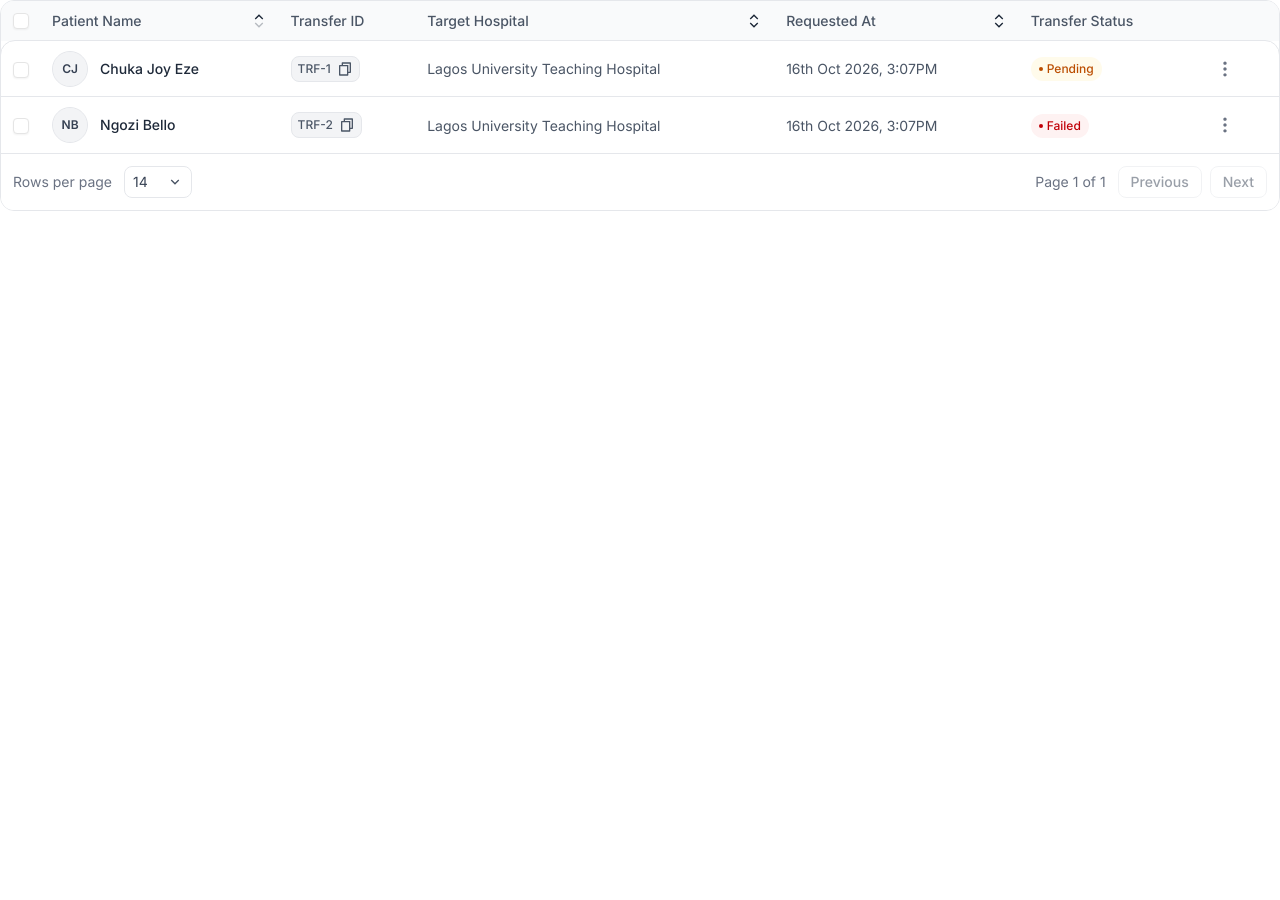
Scenario: Transfer recovery from the row menu › cancelling asks first, then withdraws the request and shows it cancelled
Click the 1st button named "Open transfer actions": coordinates (1225, 68) 1207,50 -> 1243,86
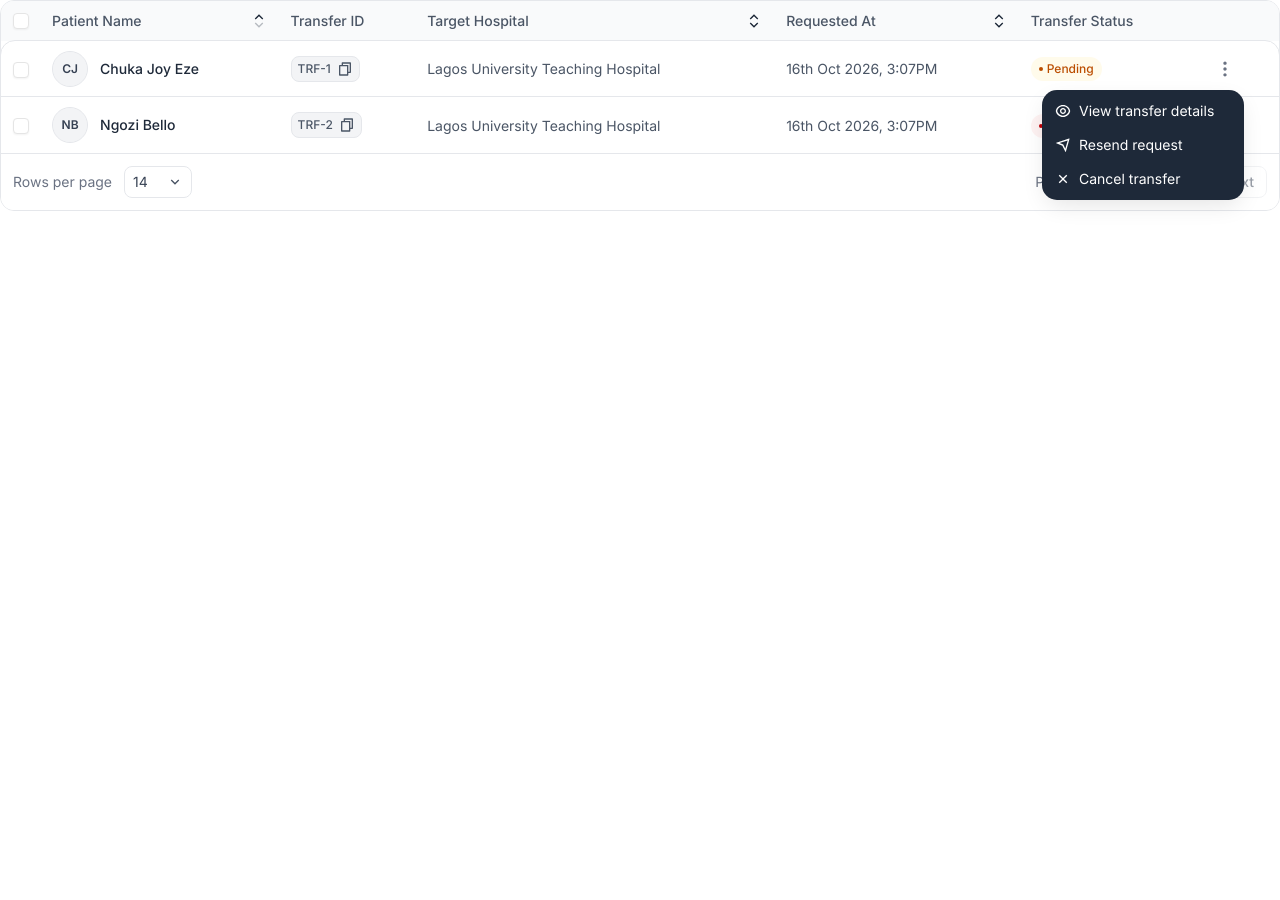
Click the menu item "Cancel transfer": coordinates (1118, 178) 1055,170 -> 1180,187
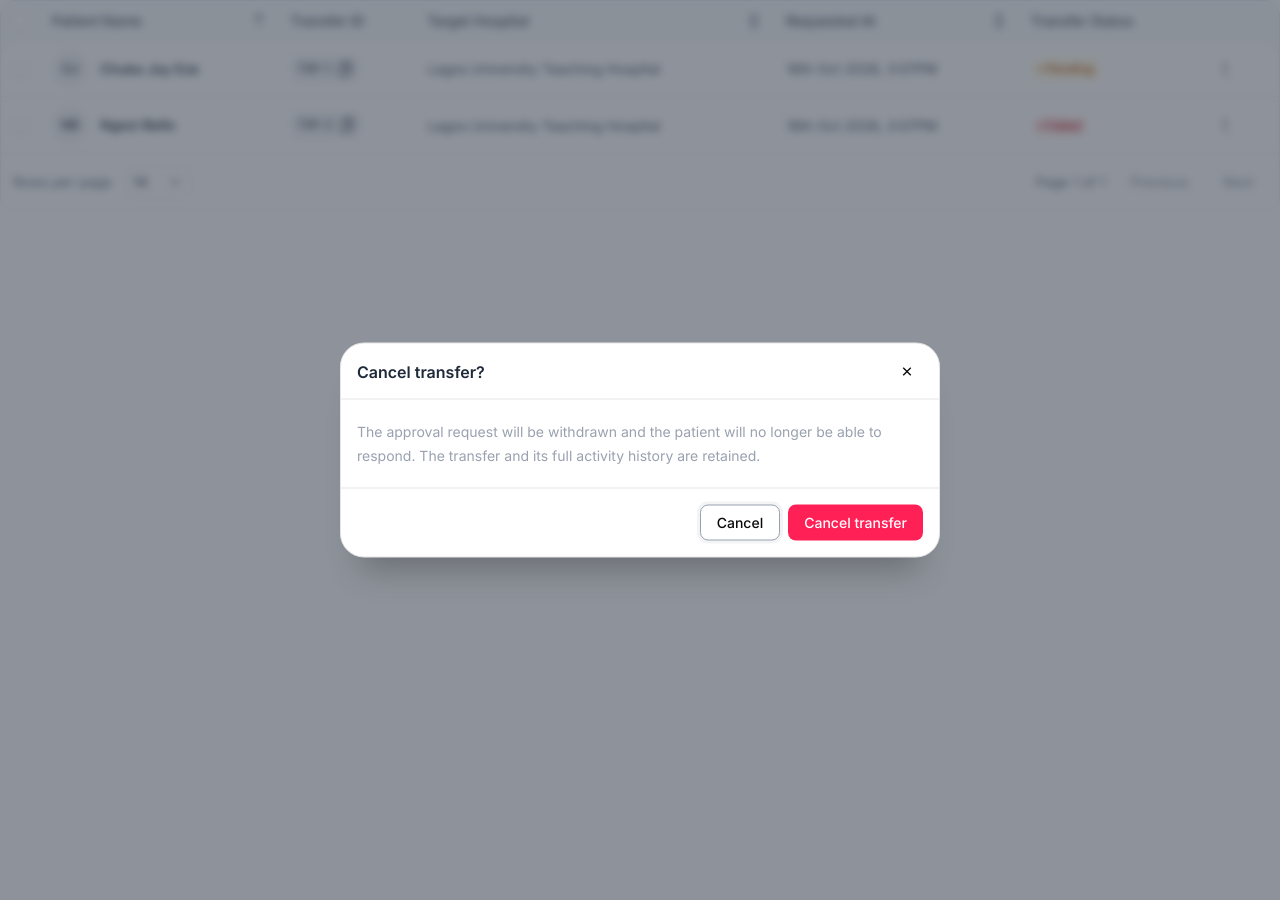
Click the button "Cancel transfer": coordinates (856, 522) 788,504 -> 923,540
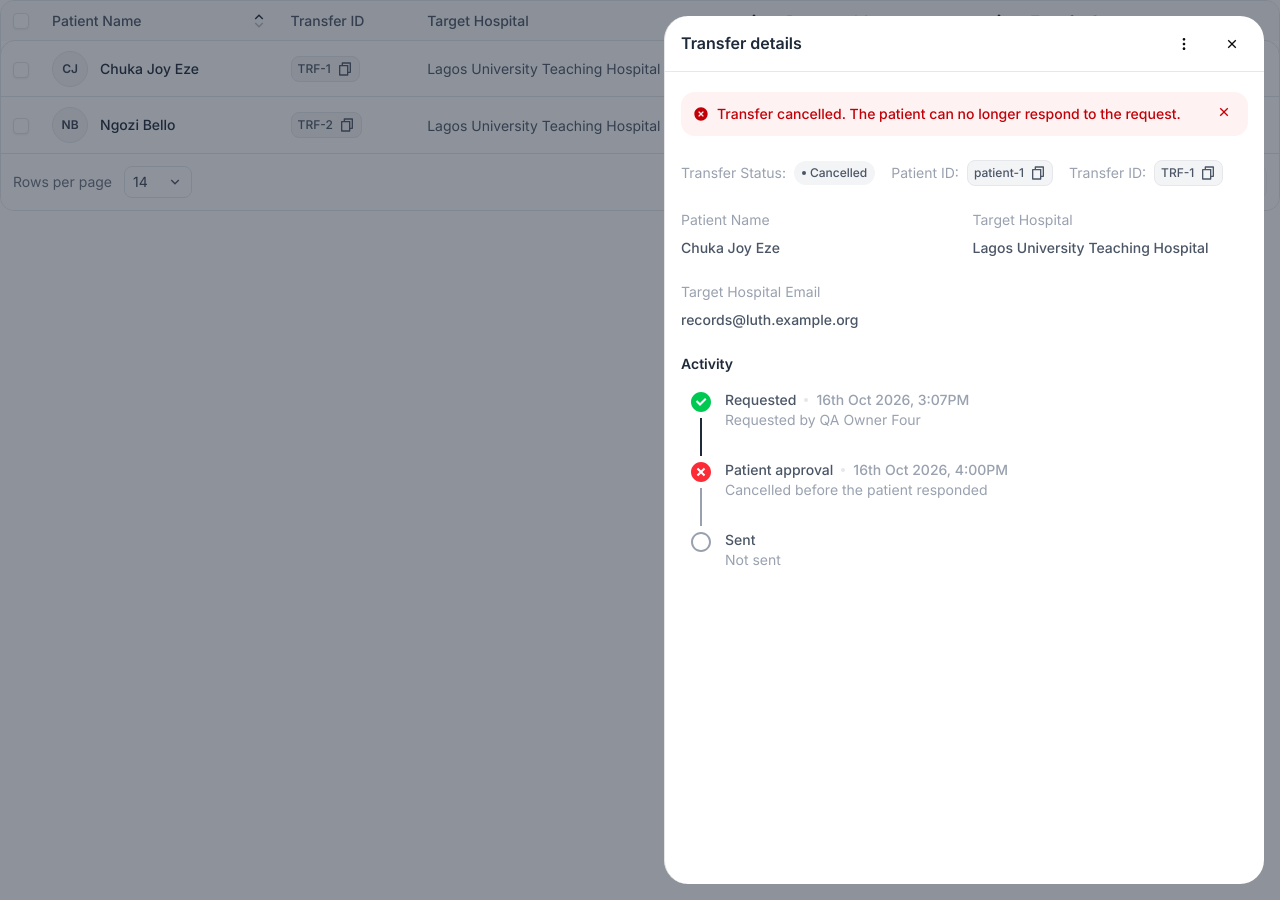
Now the message reads "Transfer cancelled. The patient can no longer respond to the request.", box 717,105 -> 1181,122
Now the text "Cancelled before the patient responded" is shown, box 725,481 -> 988,498
